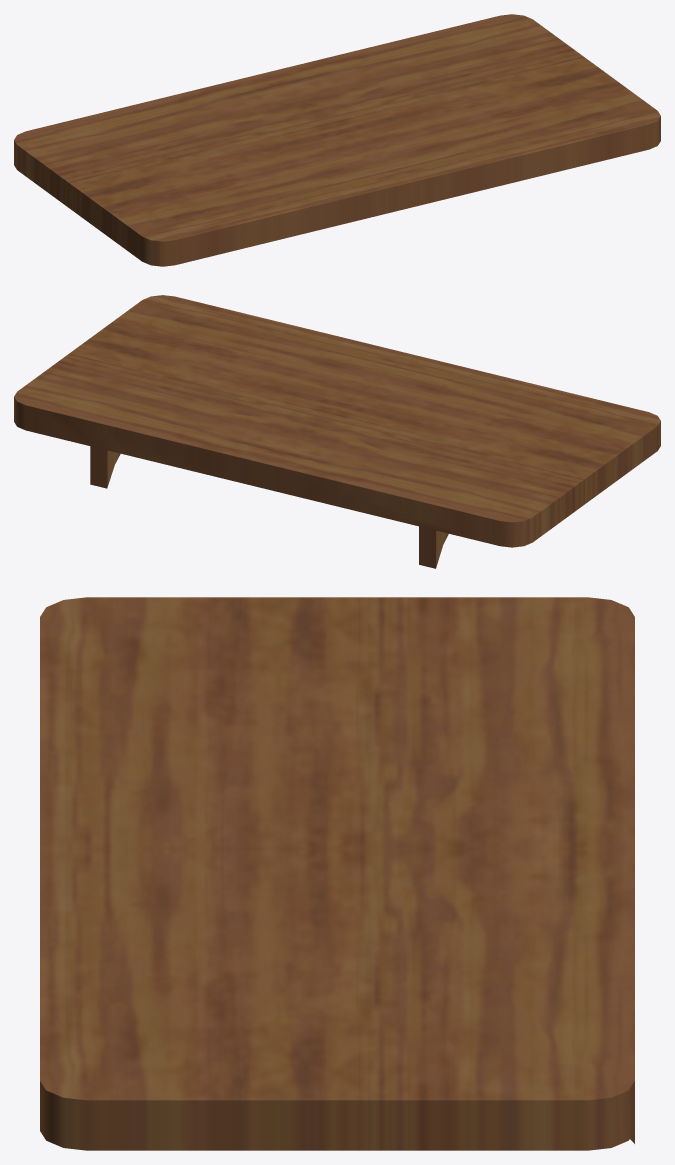
The model's file is CI_106_shelf_var1.glb.
3 views of the same model, one above another, from view 1: azimuth 30°, elevation 25°; view 2: azimuth 150°, elevation 25°; view 3: azimuth 270°, elevation 25° (orthographic). The views are drawn at different scales.
Parts seen in each view (by area): view 1: shelf; view 2: shelf; view 3: shelf.
Part boxes in pixels (x1,y1,x2,y2): shelf: [14, 14, 660, 266]; shelf: [14, 295, 660, 568]; shelf: [40, 597, 634, 1150].
Size of the model in its own units: 1.5 by 0.1765 by 0.75.
1 material, 1 textured.
